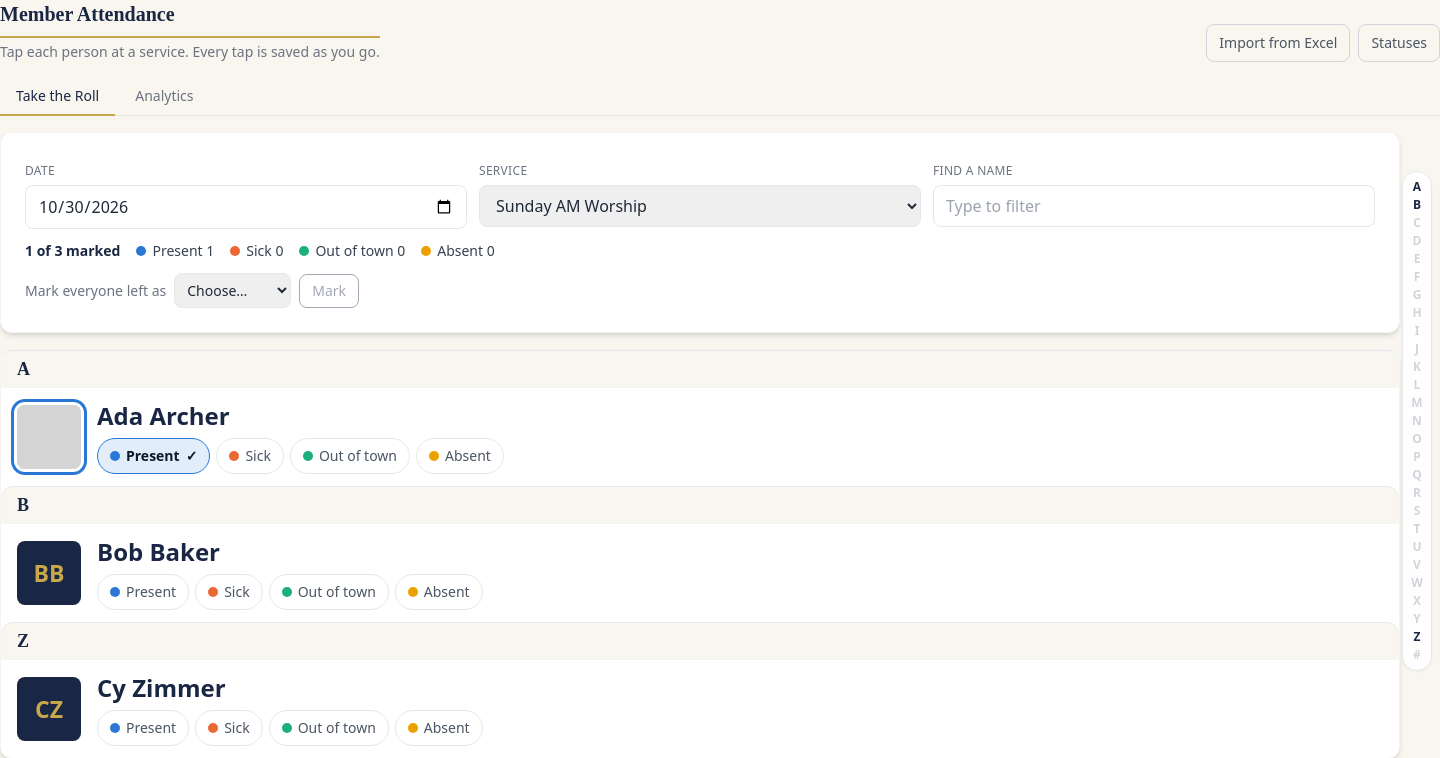
Test: taking the roll › a mark the server refuses is put back, and says why
The image size is (1440, 758).
Expected: the button "Bob Baker" is shown, [97,536,220,568]
Step 1. Click the 2nd button "Absent" → (439, 592), box [395,574,483,610]
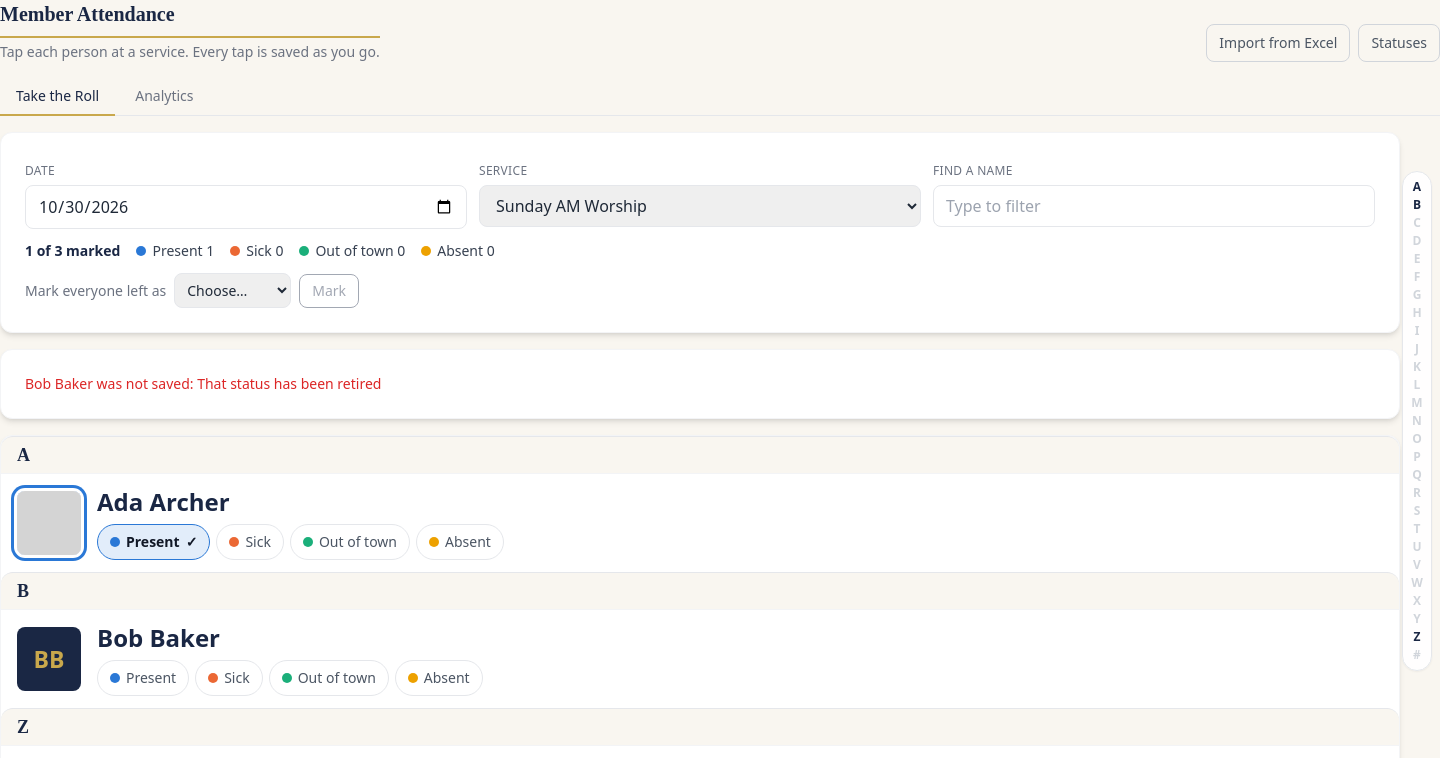
Now the message reads "Bob Baker was not saved: That status has been retired", box [25,374,381,393]
